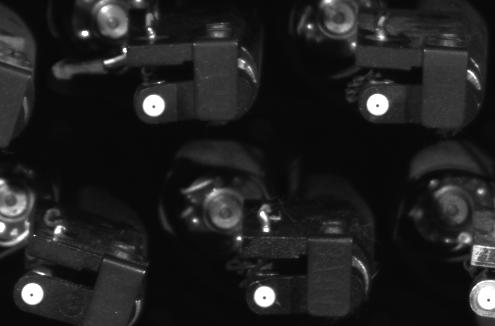fiber: (16, 278, 55, 309), (361, 90, 396, 121), (250, 279, 281, 314), (138, 89, 169, 123), (469, 280, 495, 315)
